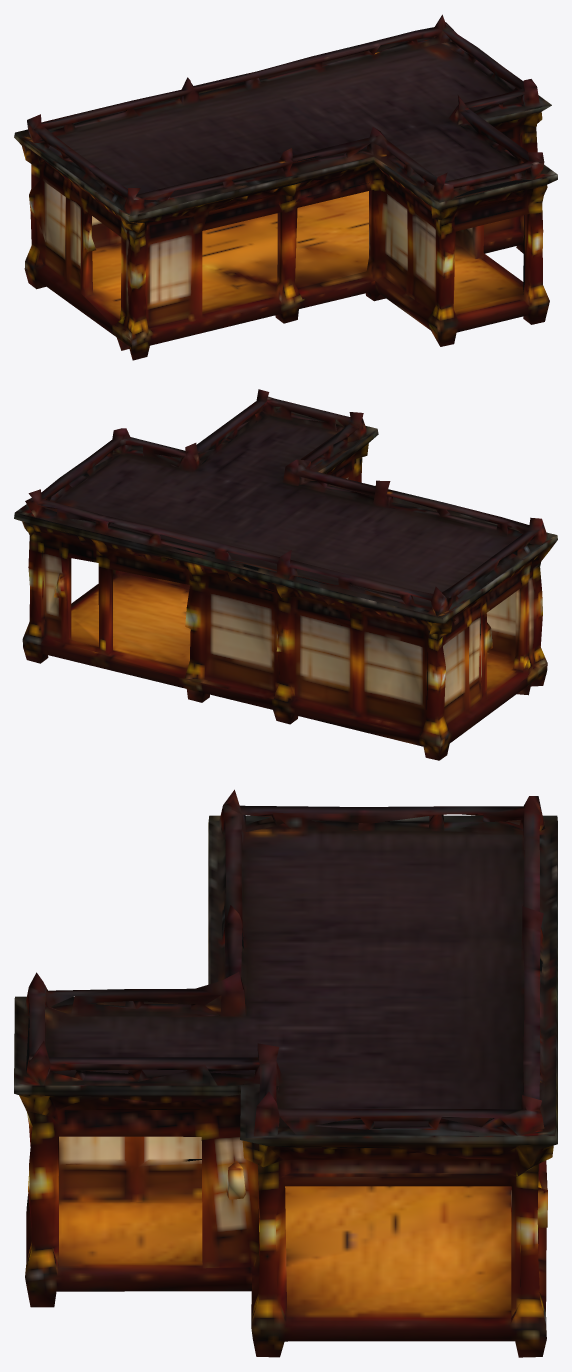
File: HallWay3Way_LOD2.fbx
3 renders of one model, top to bottom at view 1: azimuth 30°, elevation 25°; view 2: azimuth 150°, elevation 25°; view 3: azimuth 270°, elevation 25°, orthographic. The views are drawn at different scales.
Visible parts, largest first — view 1: node_0.001; view 2: node_0.001; view 3: node_0.001.
Part boxes in pixels (x1,y1,x2,y2): node_0.001: (14, 14, 557, 360); node_0.001: (14, 389, 557, 760); node_0.001: (14, 789, 557, 1357).
Bounding box in the file's own units: 95.36 × 36.25 × 68.14.
1 material, 1 textured.
